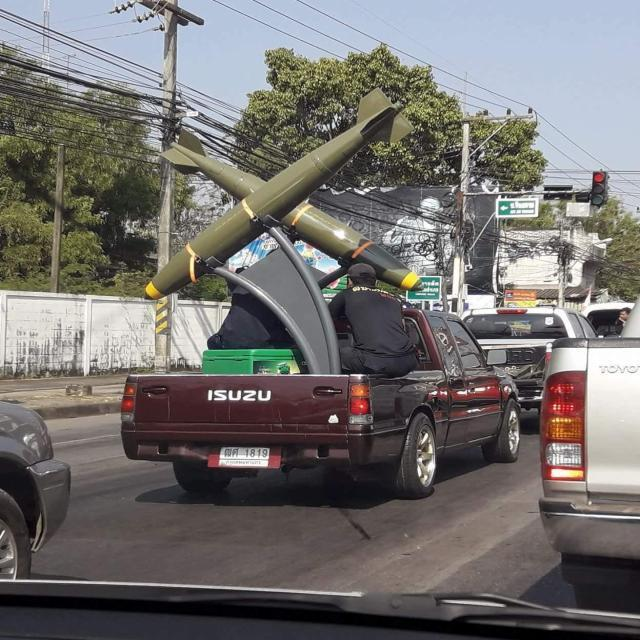uncovered: (142, 120, 487, 470)
